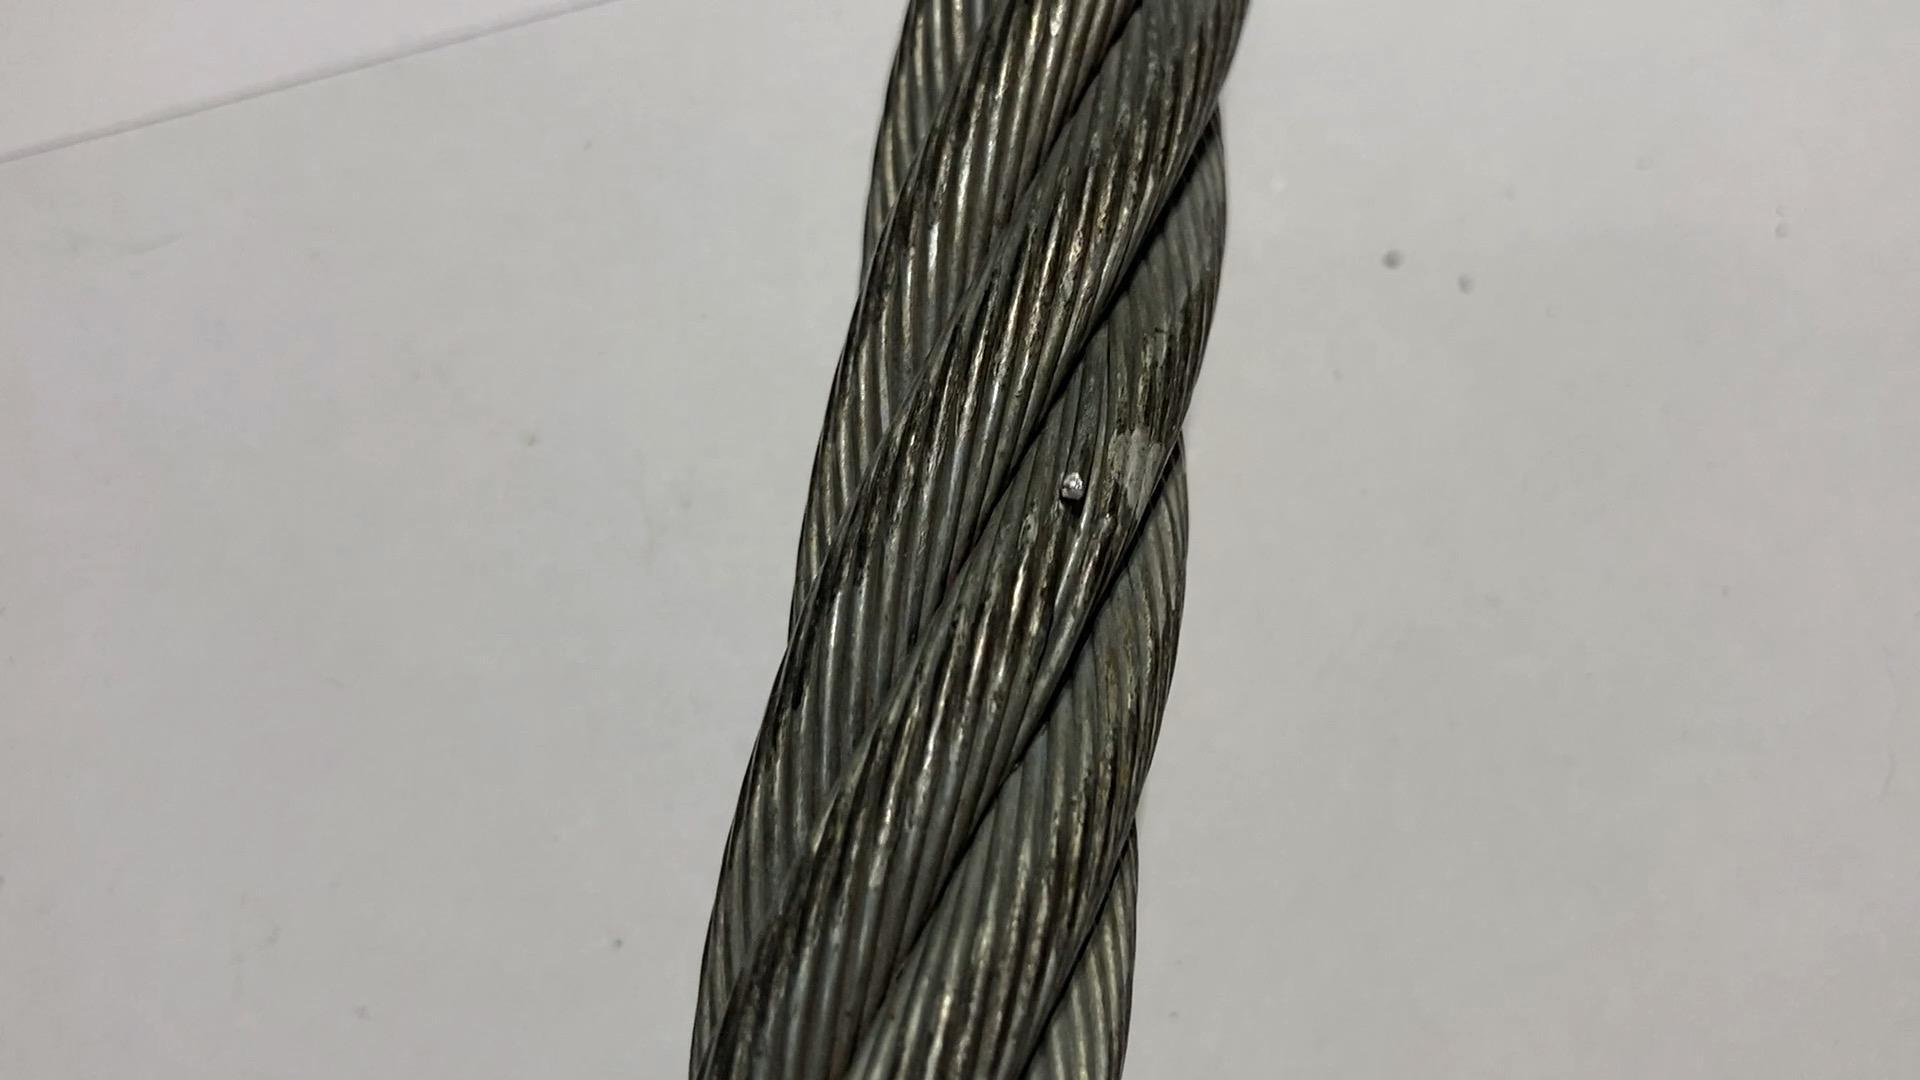break: (1018, 430, 1145, 554)
